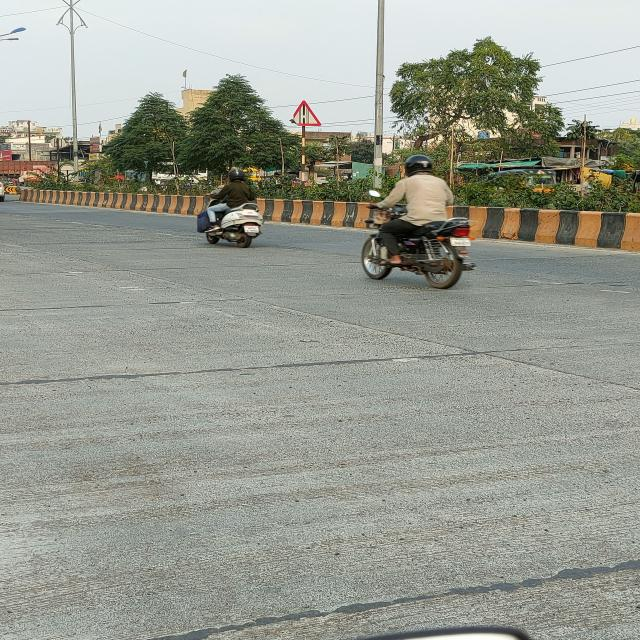ferry: (290, 100, 322, 127)
